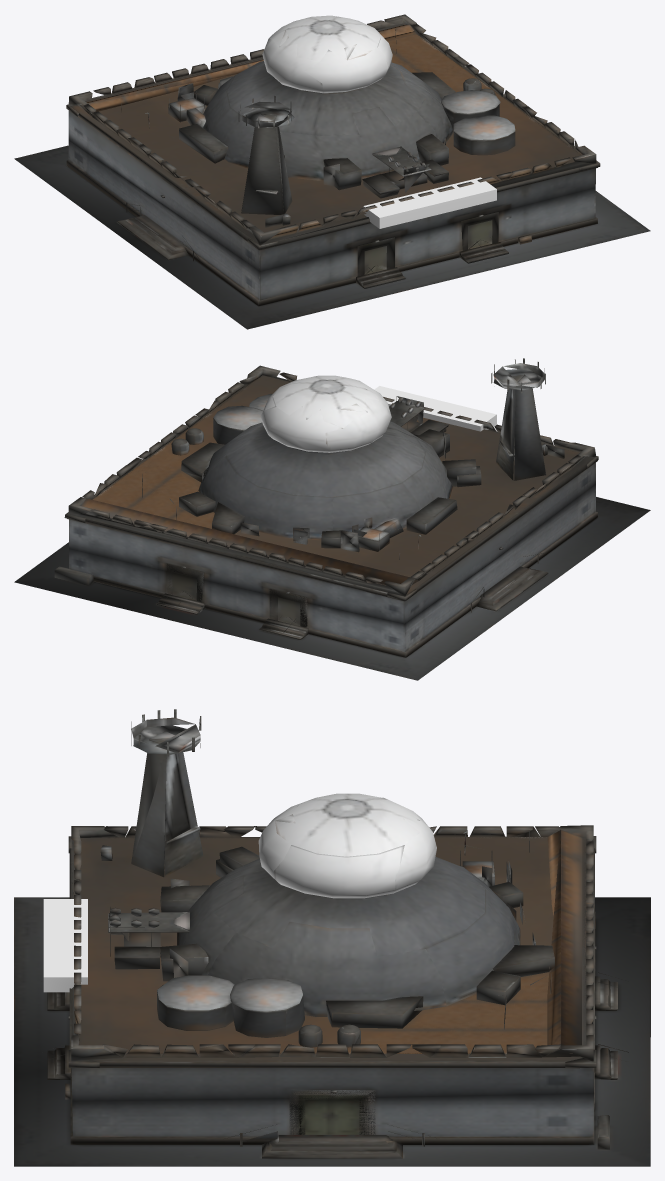
3 renders of one model, top to bottom at view 1: azimuth 30°, elevation 25°; view 2: azimuth 150°, elevation 25°; view 3: azimuth 270°, elevation 25°, orthographic. The views are drawn at different scales.
Parts seen in each view (by area): view 1: ru-hq; view 2: ru-hq; view 3: ru-hq.
Boxes of the visible parts, x1,y1,x2,y2 form: ru-hq: [14, 14, 650, 329]; ru-hq: [14, 358, 650, 680]; ru-hq: [14, 709, 650, 1166].
Size of the model in its own units: 3.44 by 1.35 by 3.44.
2 materials, 1 textured.
